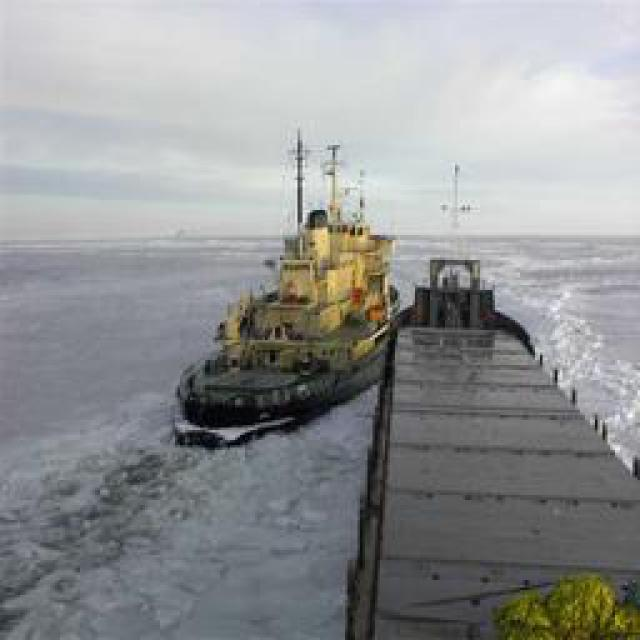Ship: (170, 126, 405, 436)
